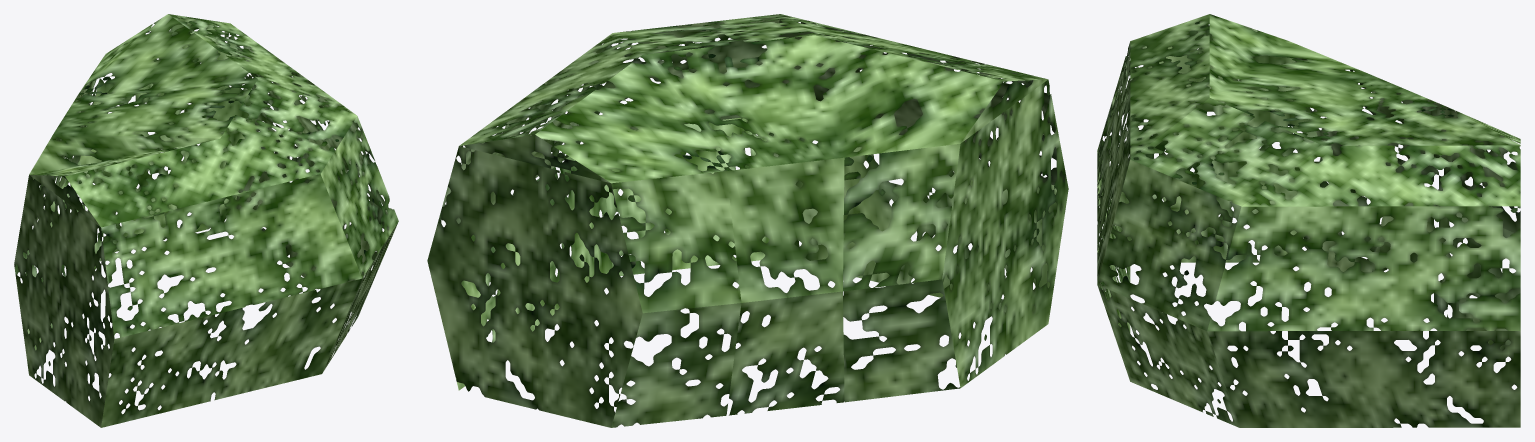
The model's file is bush_round_corner_filled_summer.fbx.
The picture shows the model from 3 angles, left to right: view 1: azimuth 30°, elevation 25°; view 2: azimuth 150°, elevation 25°; view 3: azimuth 270°, elevation 25°; orthographic projection. The views are drawn at different scales.
Parts seen in each view (by area): view 1: bush_round_corner_filled_summer; view 2: bush_round_corner_filled_summer; view 3: bush_round_corner_filled_summer.
Boxes of the visible parts, box(x1,y1,x2,y2) form: bush_round_corner_filled_summer: box(14, 14, 398, 427); bush_round_corner_filled_summer: box(427, 14, 1068, 427); bush_round_corner_filled_summer: box(1097, 14, 1520, 427).
Size of the model in its own units: 136 by 87.65 by 135.
1 material, 1 textured.
